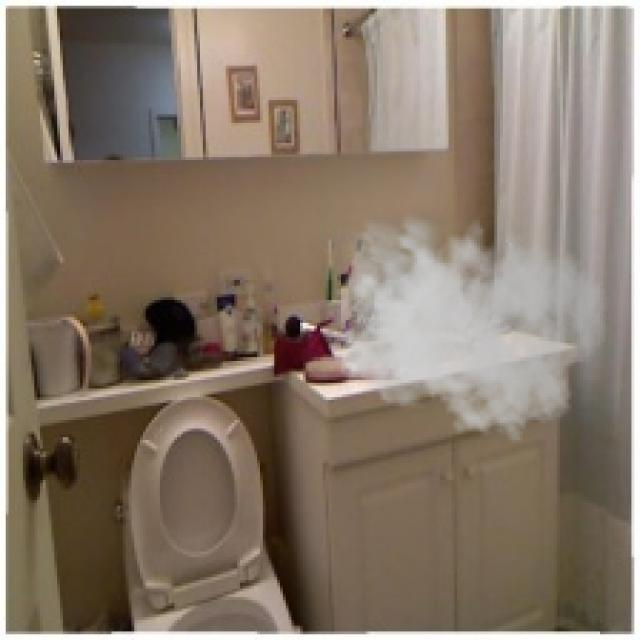smoke: (328, 203, 608, 443)
